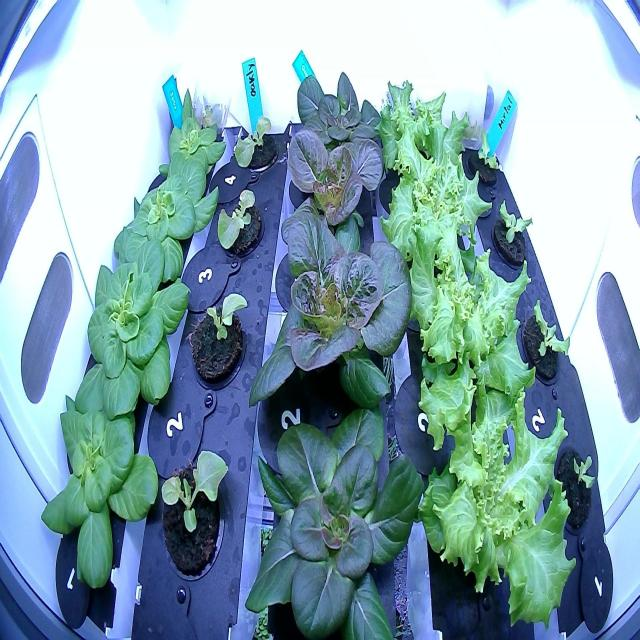young: (239, 387, 433, 640), (240, 187, 416, 434), (36, 385, 163, 596), (65, 232, 195, 420), (273, 120, 398, 283), (106, 150, 226, 296), (284, 62, 392, 193), (151, 75, 230, 188)
